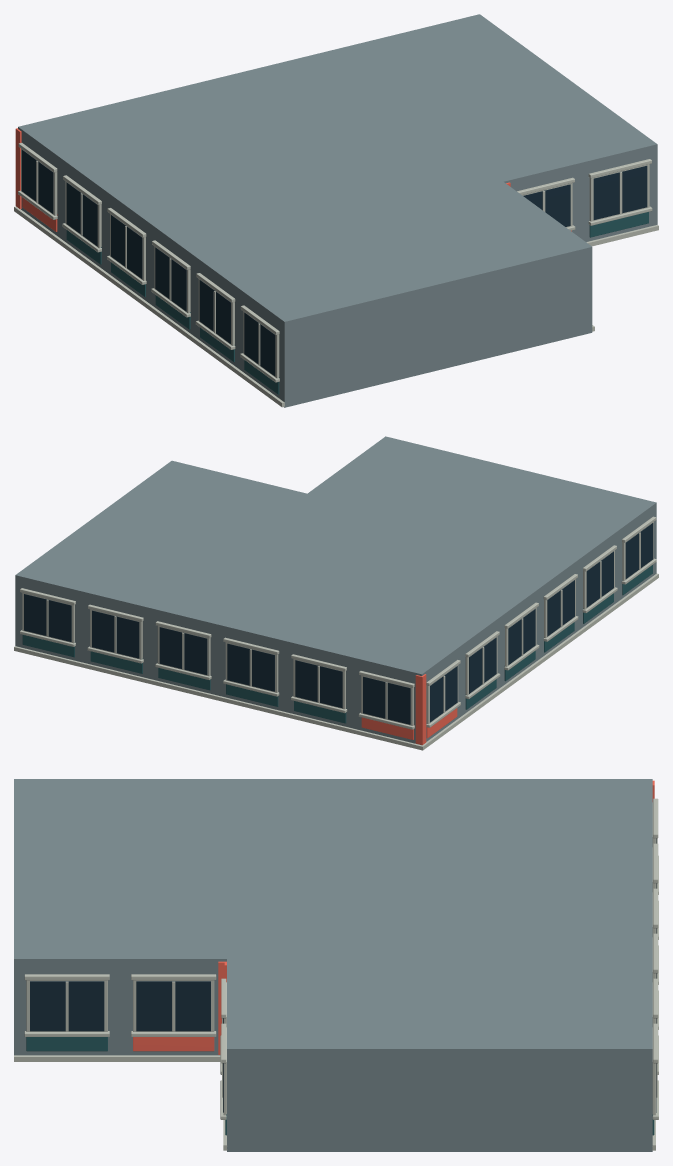
The model's file is d03_apartment_family_06_inside.glb.
The picture shows the model from 3 angles, top to bottom: view 1: azimuth 30°, elevation 25°; view 2: azimuth 150°, elevation 25°; view 3: azimuth 270°, elevation 25°; orthographic projection. The views are drawn at different scales.
Visible parts, largest first — view 1: D03ApartmentFamily06Inside_Mesh; view 2: D03ApartmentFamily06Inside_Mesh; view 3: D03ApartmentFamily06Inside_Mesh.
Part boxes in pixels (x1,y1,x2,y2): D03ApartmentFamily06Inside_Mesh: (14, 14, 658, 407); D03ApartmentFamily06Inside_Mesh: (14, 436, 658, 750); D03ApartmentFamily06Inside_Mesh: (14, 779, 658, 1151).
Bounding box in the file's own units: 18.18 × 3.2 × 18.18.
